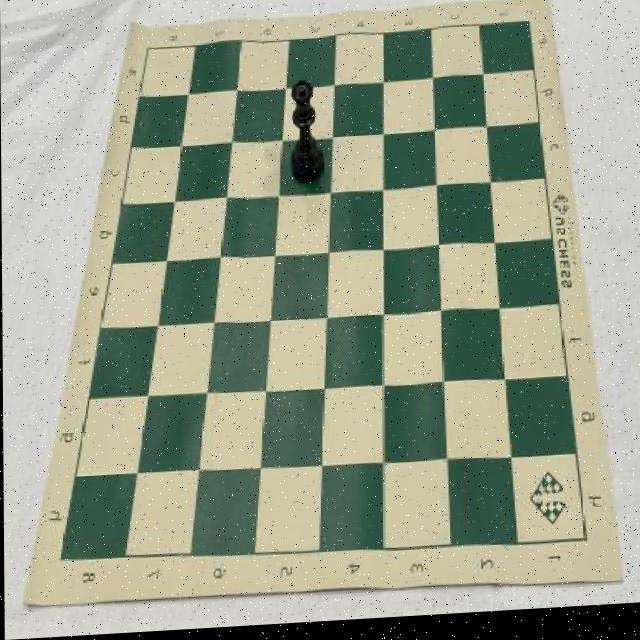black-pawn: (289, 82, 326, 191)
